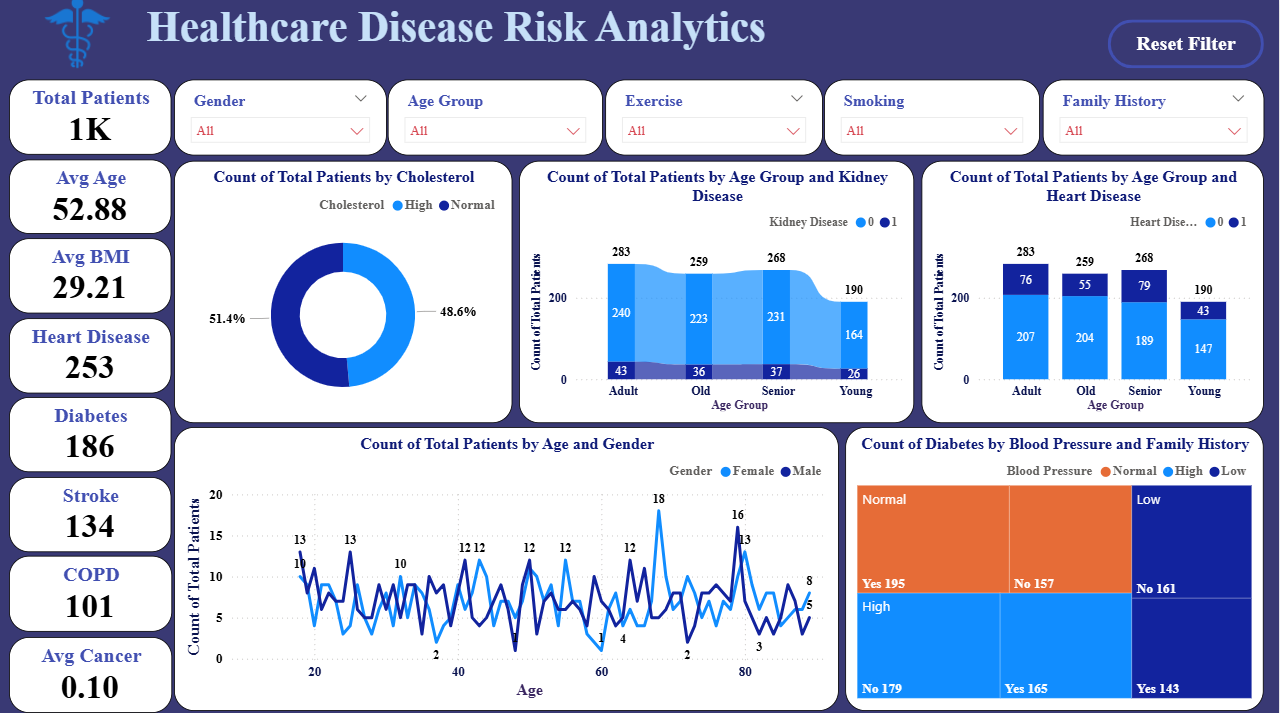

Layout of this report page (visuals, bound fields, positions):
{"tool":"powerbi","page":{"name":"Dashboard","canvas":[1280,720],"ordinal":0},"visuals":[{"type":"textbox","box":[10,0,830,71.2],"z":0},{"type":"cardVisual","title":"Total Patients","fields":{"Data":["CountNonNull(healthcare_disease_prediction_dataset.Total Patients)"]},"box":[9.6,83,162.5,75],"z":1000},{"type":"cardVisual","title":"Avg Age","fields":{"Data":["Avg(healthcare_disease_prediction_dataset.Avg Age)"]},"box":[9.6,162.5,162.5,74.6],"z":2000},{"type":"cardVisual","title":"Avg BMI","fields":{"Data":["Avg(healthcare_disease_prediction_dataset.Avg BMI)"]},"box":[9.6,241.5,162.1,75],"z":3000},{"type":"cardVisual","title":"Heart Disease","fields":{"Data":["Sum(healthcare_disease_prediction_dataset.Heart Disease)"]},"box":[9.6,321,162.1,75],"z":4000},{"type":"cardVisual","title":"Diabetes","fields":{"Data":["Sum(healthcare_disease_prediction_dataset.Diabetes)"]},"box":[9.6,400.4,162.1,75],"z":5000},{"type":"cardVisual","title":"Stroke","fields":{"Data":["Sum(healthcare_disease_prediction_dataset.Stroke)"]},"box":[9.6,479.9,162.1,75],"z":6000},{"type":"slicer","fields":{"Values":["healthcare_disease_prediction_dataset.Smoking"]},"box":[825.5,82.4,216.2,76.2],"z":7000},{"type":"slicer","fields":{"Values":["healthcare_disease_prediction_dataset.Gender"]},"box":[174.5,82.4,212.5,76.2],"z":8000},{"type":"slicer","fields":{"Values":["healthcare_disease_prediction_dataset.Exercise"]},"box":[606,82.4,217.5,76.2],"z":9000},{"type":"slicer","fields":{"Values":["healthcare_disease_prediction_dataset.Family History"]},"box":[1043.8,82.4,221.2,76.2],"z":10000},{"type":"slicer","fields":{"Values":["healthcare_disease_prediction_dataset.Age Group"]},"box":[389,82.4,215,76.2],"z":11000},{"type":"actionButton","box":[1108.8,22.5,156.2,48.8],"z":12000},{"type":"columnChart","fields":{"Category":["healthcare_disease_prediction_dataset.Age Group"],"Y":["CountNonNull(healthcare_disease_prediction_dataset.Total Patients)"],"Series":["healthcare_disease_prediction_dataset.Heart Disease"]},"box":[922.3,163.8,342.3,262.3],"z":12001},{"type":"ribbonChart","fields":{"Category":["healthcare_disease_prediction_dataset.Age Group"],"Series":["healthcare_disease_prediction_dataset.Kidney Disease"],"Y":["CountNonNull(healthcare_disease_prediction_dataset.Total Patients)"]},"box":[520,163.8,395.4,262.3],"z":12002},{"type":"donutChart","fields":{"Category":["healthcare_disease_prediction_dataset.Cholesterol"],"Y":["CountNonNull(healthcare_disease_prediction_dataset.Total Patients)"]},"box":[175.5,163.5,338,262.5],"z":12003},{"type":"lineChart","fields":{"Category":["healthcare_disease_prediction_dataset.Age"],"Y":["CountNonNull(healthcare_disease_prediction_dataset.Total Patients)"],"Series":["healthcare_disease_prediction_dataset.Gender"]},"box":[175.4,430,664.6,283.8],"z":12004},{"type":"treemap","fields":{"Group":["healthcare_disease_prediction_dataset.Blood Pressure"],"Details":["healthcare_disease_prediction_dataset.Family History"],"Values":["CountNonNull(healthcare_disease_prediction_dataset.Diabetes)"]},"box":[846.2,430,418.5,283.8],"z":12005},{"type":"cardVisual","title":"COPD","fields":{"Data":["Sum(healthcare_disease_prediction_dataset.COPD)"]},"box":[9.6,559.3,162.9,75.8],"z":12006},{"type":"image","box":[30,0,97.5,71.2],"z":12007},{"type":"cardVisual","title":"Avg Cancer","fields":{"Data":["Avg(healthcare_disease_prediction_dataset.Cancer)"]},"box":[9.6,639.6,162.9,75.8],"z":12008}]}

Visuals, with their boxes in screenshot pixels (x1, y1, x2, y2), scaled from the page's 1280x720 canvas onto the 1280x713 screenshot:
textbox: select_region(10, 0, 840, 71)
"Total Patients" cardVisual: select_region(10, 82, 172, 156)
"Avg Age" cardVisual: select_region(10, 161, 172, 235)
"Avg BMI" cardVisual: select_region(10, 239, 172, 313)
"Heart Disease" cardVisual: select_region(10, 318, 172, 392)
"Diabetes" cardVisual: select_region(10, 397, 172, 471)
"Stroke" cardVisual: select_region(10, 475, 172, 550)
slicer - healthcare_disease_prediction_dataset.Smoking: select_region(826, 82, 1042, 157)
slicer - healthcare_disease_prediction_dataset.Gender: select_region(174, 82, 387, 157)
slicer - healthcare_disease_prediction_dataset.Exercise: select_region(606, 82, 824, 157)
slicer - healthcare_disease_prediction_dataset.Family History: select_region(1044, 82, 1265, 157)
slicer - healthcare_disease_prediction_dataset.Age Group: select_region(389, 82, 604, 157)
actionButton: select_region(1109, 22, 1265, 71)
columnChart - healthcare_disease_prediction_dataset.Age Group x CountNonNull(healthcare_disease_prediction_dataset.Total Patients): select_region(922, 162, 1265, 422)
ribbonChart - healthcare_disease_prediction_dataset.Age Group x healthcare_disease_prediction_dataset.Kidney Disease: select_region(520, 162, 915, 422)
donutChart - healthcare_disease_prediction_dataset.Cholesterol x CountNonNull(healthcare_disease_prediction_dataset.Total Patients): select_region(176, 162, 514, 422)
lineChart - healthcare_disease_prediction_dataset.Age x CountNonNull(healthcare_disease_prediction_dataset.Total Patients): select_region(175, 426, 840, 707)
treemap - healthcare_disease_prediction_dataset.Blood Pressure x healthcare_disease_prediction_dataset.Family History: select_region(846, 426, 1265, 707)
"COPD" cardVisual: select_region(10, 554, 172, 629)
image: select_region(30, 0, 128, 71)
"Avg Cancer" cardVisual: select_region(10, 633, 172, 708)
